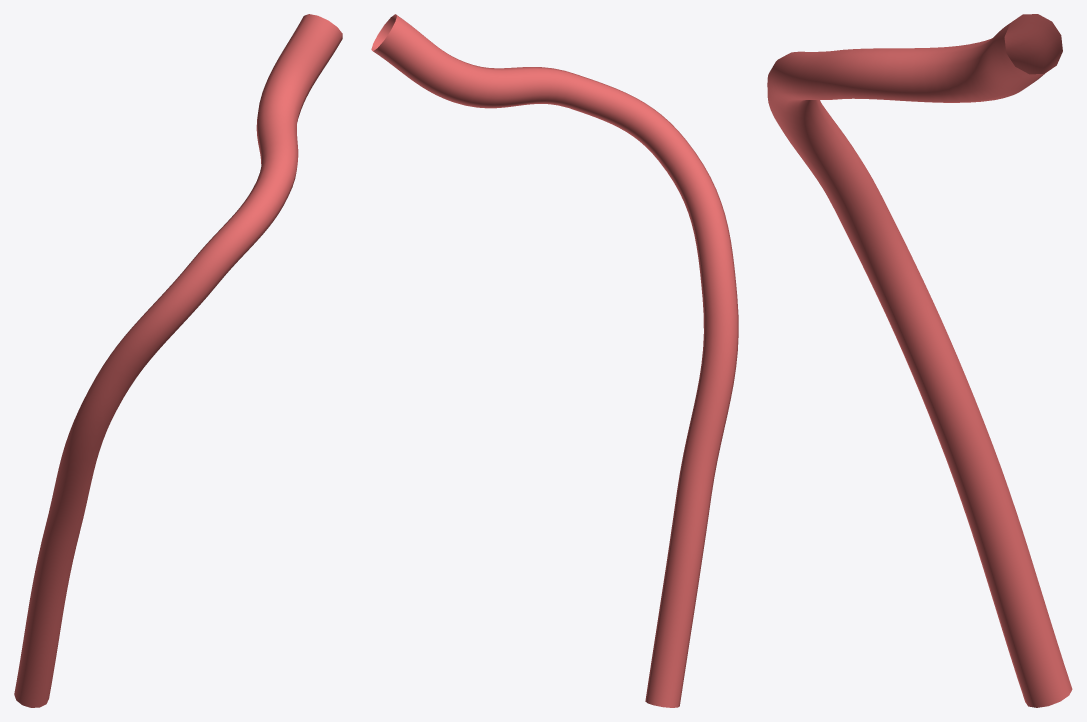
File: Anterior_spinal_artery.l_BezierCurve.203.glb
3 views of the same model, side by side, from view 1: azimuth 30°, elevation 25°; view 2: azimuth 150°, elevation 25°; view 3: azimuth 270°, elevation 25° (orthographic). The views are drawn at different scales.
Visible parts, largest first — view 1: Anterior_spinal_artery.l_BezierCurve.203; view 2: Anterior_spinal_artery.l_BezierCurve.203; view 3: Anterior_spinal_artery.l_BezierCurve.203.
Part boxes in pixels (left/top/right/bottom): Anterior_spinal_artery.l_BezierCurve.203: left=14, top=14, right=342, bottom=707; Anterior_spinal_artery.l_BezierCurve.203: left=371, top=14, right=738, bottom=707; Anterior_spinal_artery.l_BezierCurve.203: left=767, top=14, right=1072, bottom=707.
Size of the model in its own units: 0.0145 by 0.0274 by 0.00865.
